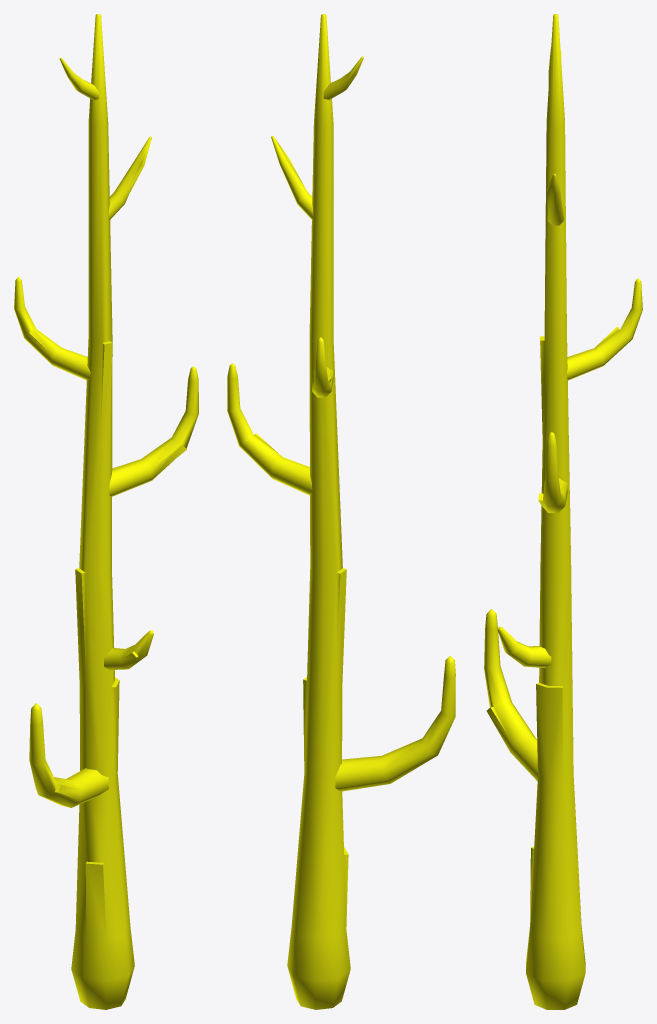
The model's file is kaykit-tree-bare-2-c-color-1.glb.
3 renders of one model, left to right at view 1: azimuth 30°, elevation 25°; view 2: azimuth 150°, elevation 25°; view 3: azimuth 270°, elevation 25°, orthographic.
Visible parts, largest first — view 1: Tree_Bare_2_C_Color1; view 2: Tree_Bare_2_C_Color1; view 3: Tree_Bare_2_C_Color1.
Boxes of the visible parts, x1,y1,x2,y2 form: Tree_Bare_2_C_Color1: (14, 14, 198, 1009); Tree_Bare_2_C_Color1: (227, 14, 455, 1009); Tree_Bare_2_C_Color1: (484, 14, 642, 1009).
Bounding box in the file's own units: 1.58 × 7.61 × 1.1.
